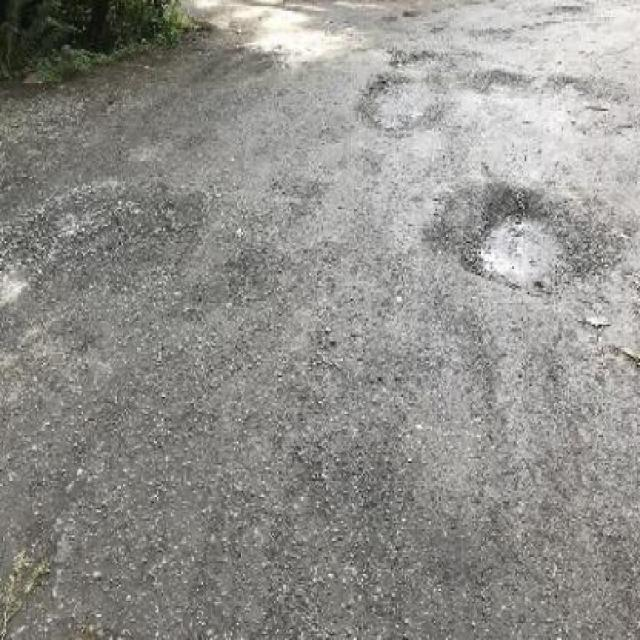pothole: (0, 174, 212, 297), (430, 181, 602, 299), (350, 68, 456, 132), (542, 70, 632, 139), (466, 66, 532, 99)
